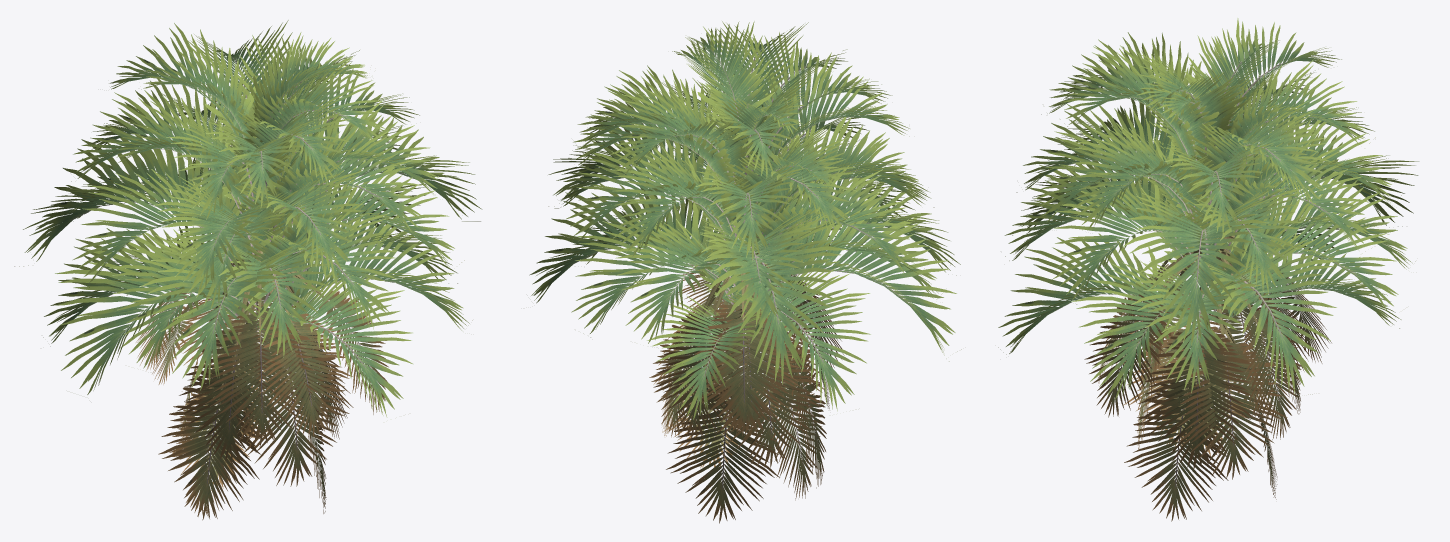
The model's file is tree_1_palm_4_leaf_0.005_lev2.glb.
3 renders of one model, left to right at view 1: azimuth 30°, elevation 25°; view 2: azimuth 150°, elevation 25°; view 3: azimuth 270°, elevation 25°, orthographic. The views are drawn at different scales.
Parts seen in each view (by area): view 1: tree_1_palm_4_leaf_0.005_lev2; view 2: tree_1_palm_4_leaf_0.005_lev2; view 3: tree_1_palm_4_leaf_0.005_lev2.
Part boxes in pixels (bbox=[...]): tree_1_palm_4_leaf_0.005_lev2: bbox=[14, 20, 482, 520]; tree_1_palm_4_leaf_0.005_lev2: bbox=[529, 21, 961, 523]; tree_1_palm_4_leaf_0.005_lev2: bbox=[998, 18, 1419, 521].
Bounding box in the file's own units: 7.09 × 7.69 × 6.6.
1 material, 1 textured.
